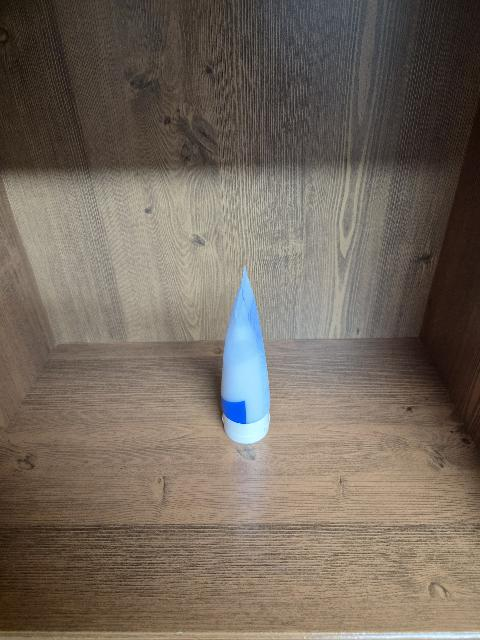handcream: (221, 266, 270, 444)
